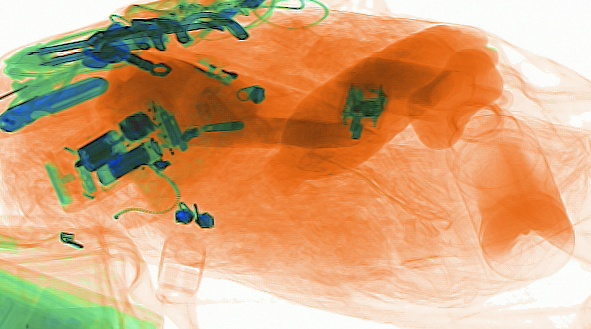knife: (1, 71, 108, 136)
lighter: (165, 45, 239, 86)
